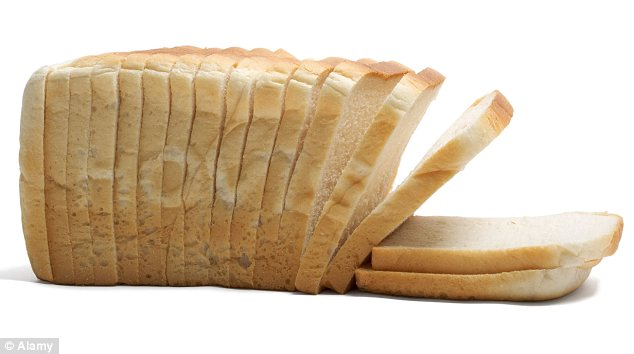slice of bread: (331, 94, 517, 290), (273, 66, 390, 288), (299, 80, 420, 291), (250, 58, 324, 286), (374, 211, 623, 268), (208, 64, 259, 280), (163, 68, 198, 290), (114, 58, 145, 283), (92, 64, 123, 284), (355, 268, 597, 295), (20, 73, 47, 283), (50, 71, 76, 281), (143, 62, 164, 286), (70, 68, 91, 284)
